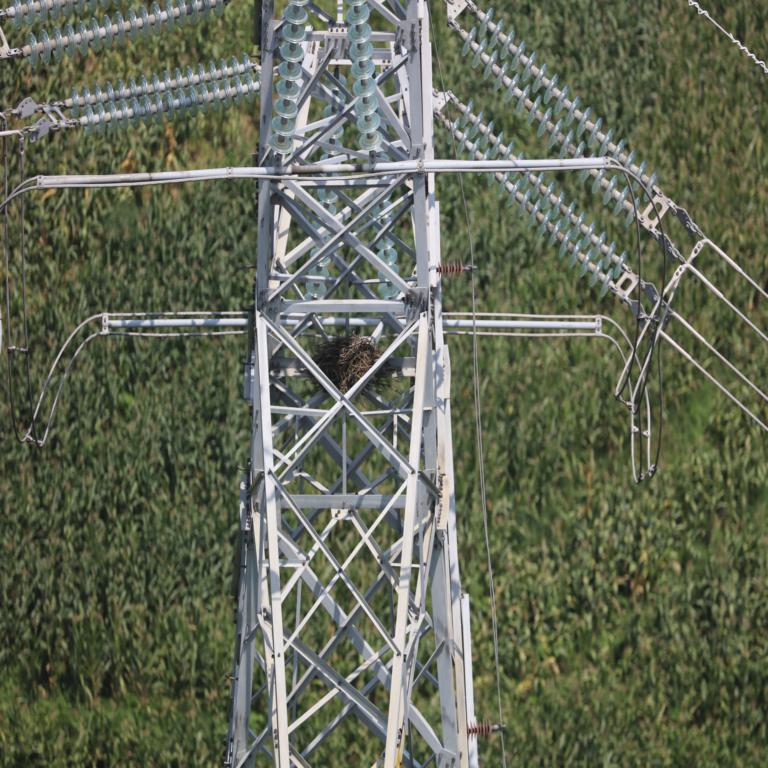nest: (304, 338, 392, 394)
